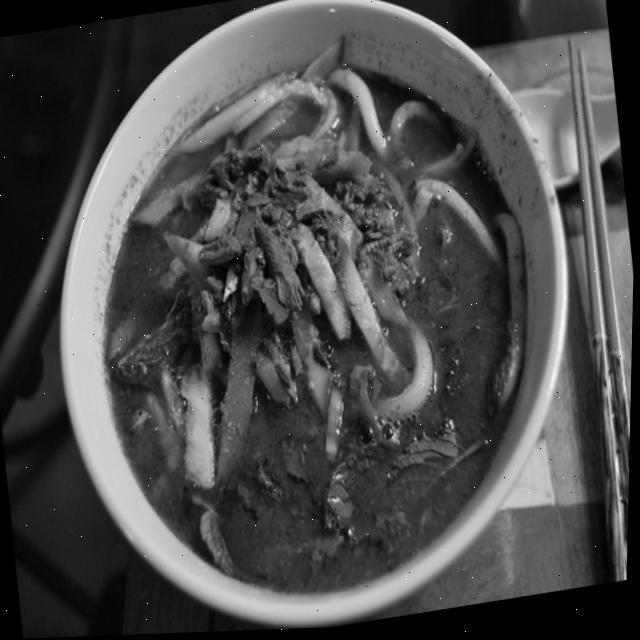面条主食: (20, 0, 593, 639)
